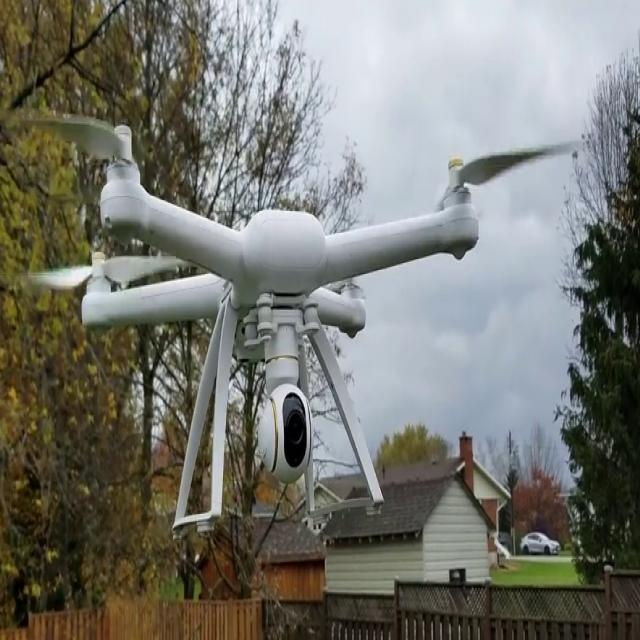drone: (11, 68, 596, 554)
